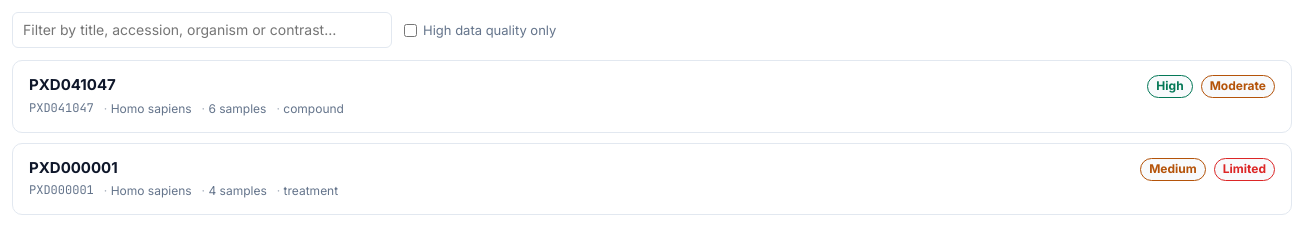
Scenario: DePicker high-quality filter › narrows the table to high data quality datasets when toggled
Expected: the number of buttons with class "de-row" is 2, [12,60,1291,133]; [12,143,1291,215]
Click the checkbox labelled "High data quality only" at [410, 30], box [404,24,417,37]
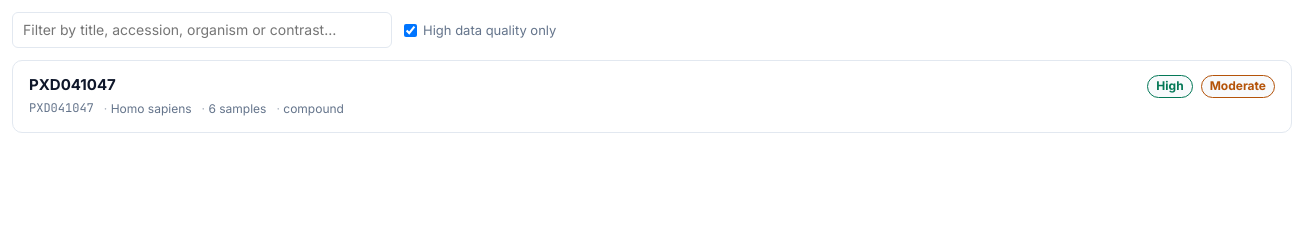
Expected: the button with class "de-row" shows "PXD041047", [12,60,1291,133]
Expected: the number of buttons with class "de-row" is 1, [12,60,1291,133]
